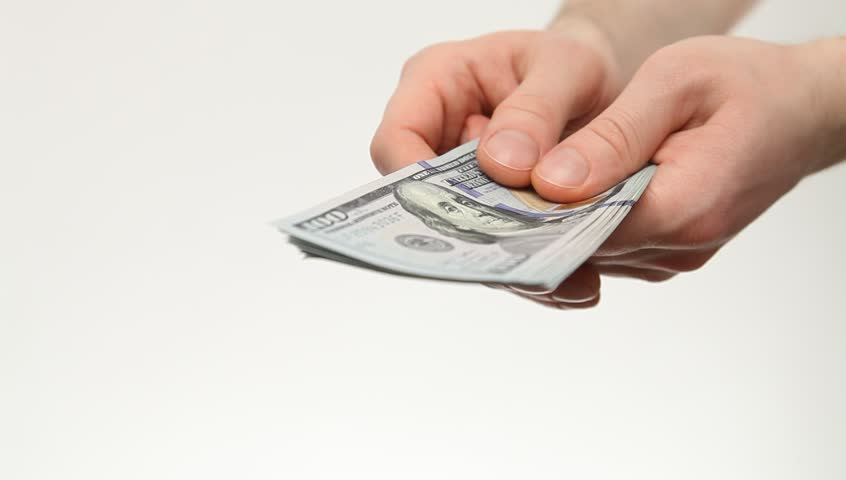billete: (272, 136, 666, 295)
